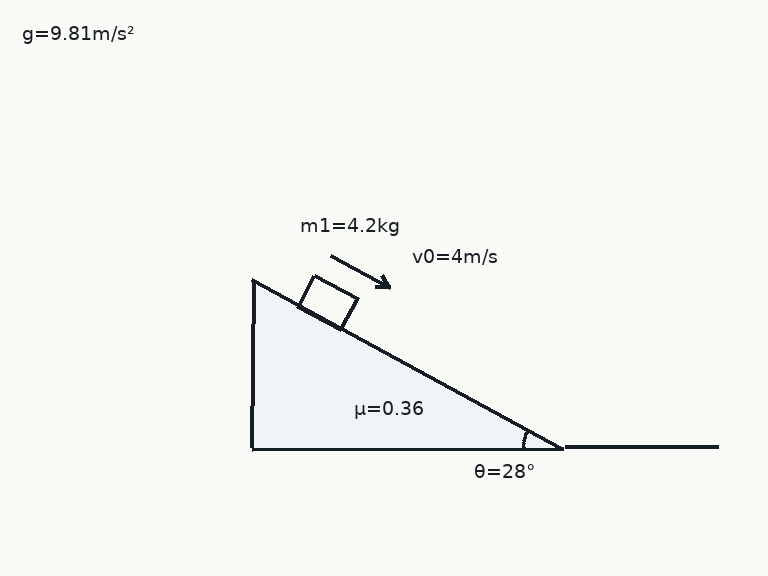block: (295, 273, 359, 331)
ramp: (249, 280, 565, 450)
